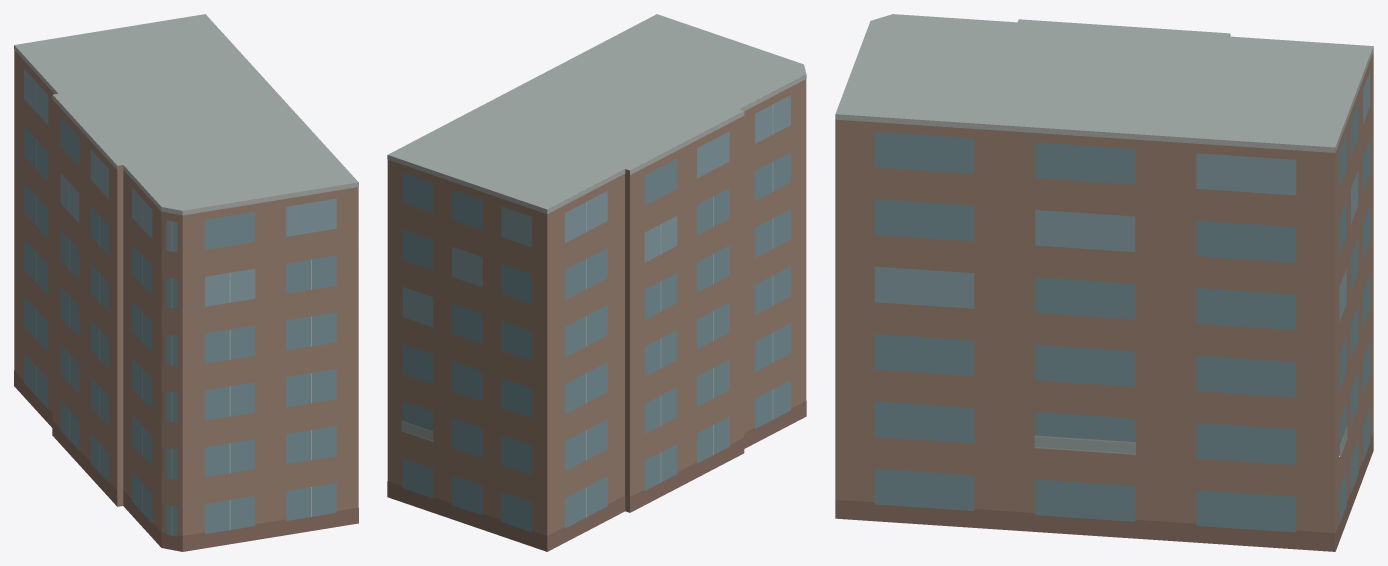
File: survey-upis-33016951.glb
3 renders of one model, left to right at view 1: azimuth 30°, elevation 25°; view 2: azimuth 150°, elevation 25°; view 3: azimuth 270°, elevation 25°, orthographic. The views are drawn at different scales.
Parts seen in each view (by area): view 1: survey-upis-33016951.tmp; view 2: survey-upis-33016951.tmp; view 3: survey-upis-33016951.tmp.
Boxes of the visible parts, x1=… form: survey-upis-33016951.tmp: x1=14, y1=14, x2=358, y2=551; survey-upis-33016951.tmp: x1=387, y1=14, x2=806, y2=551; survey-upis-33016951.tmp: x1=835, y1=14, x2=1373, y2=551.
Size of the model in its own units: 12.75 by 18 by 21.72.
